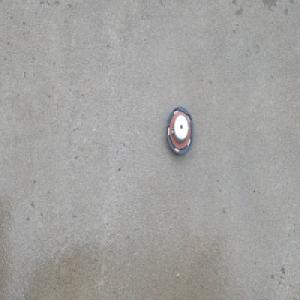FuelCap: (164, 104, 194, 157)
